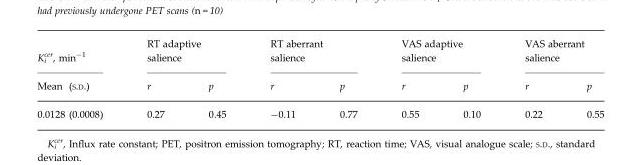table: (36, 37, 603, 126)
table column: (247, 37, 317, 126), (185, 37, 247, 126), (378, 37, 440, 126), (440, 37, 502, 126), (124, 37, 185, 126), (317, 37, 378, 126), (502, 37, 563, 126), (66, 37, 124, 126), (563, 37, 603, 126), (36, 37, 66, 126)
table column header: (36, 37, 603, 99)
table row: (36, 37, 603, 71), (36, 71, 603, 99), (36, 99, 603, 126)
table spanning cell: (247, 37, 378, 71), (378, 37, 502, 71), (124, 37, 247, 71), (502, 37, 603, 71), (36, 37, 124, 71)
